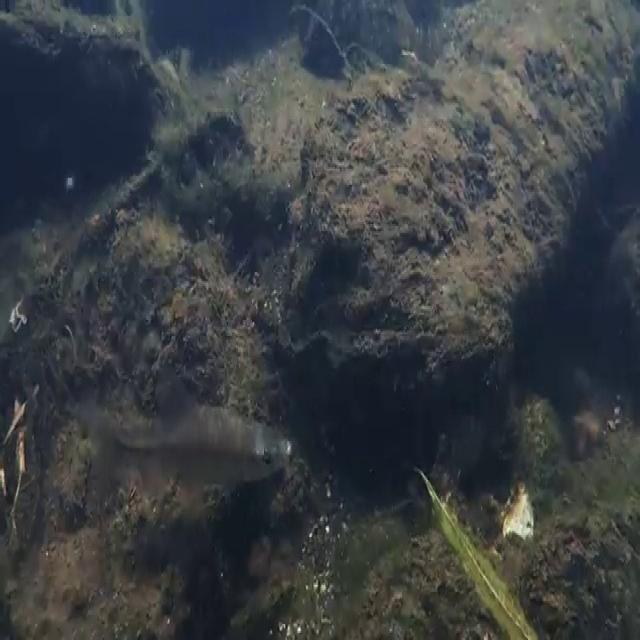Cakil Baligi: (83, 364, 303, 534)
